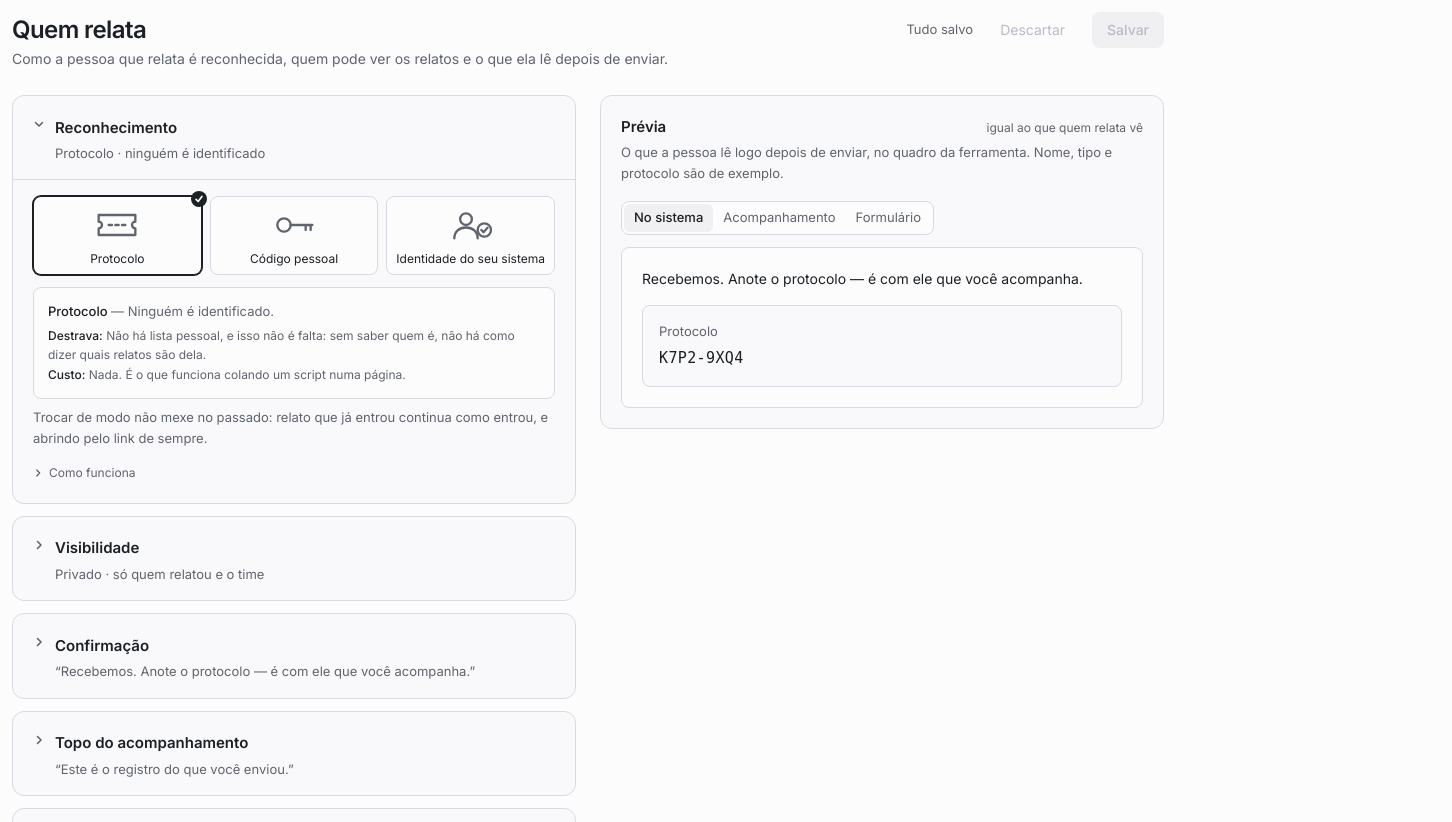
Test: IdentityScreen › só o modo escolhido diz o que destrava e o que custa, e trocar troca o texto
Expected: the radio button labelled "Protocolo" is shown, [34,197,201,274]
Expected: the text "Destrava:" is shown once, [48,328,103,343]
What coordinates should you click on to do the following:
click the radio button labelled "Código pessoal"
I would click on:
 (294, 236)
Its box is [211,197,377,274].
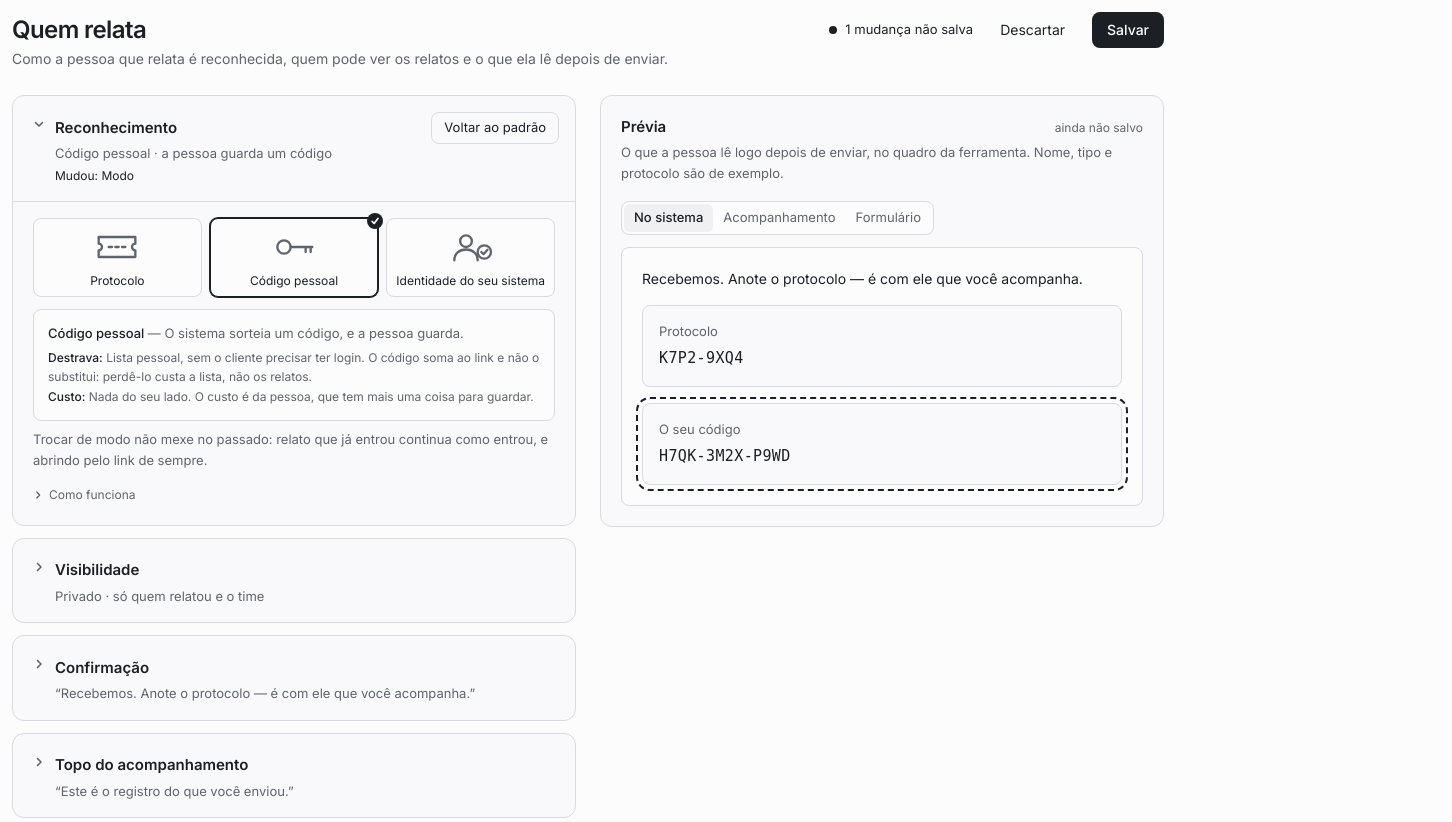
Expected: the text "Destrava:" is shown once, [48,350,103,365]
Now the text "Não há lista pessoal" is gone
Now the text "sem o cliente precisar ter login" is shown, box [48,350,539,384]
